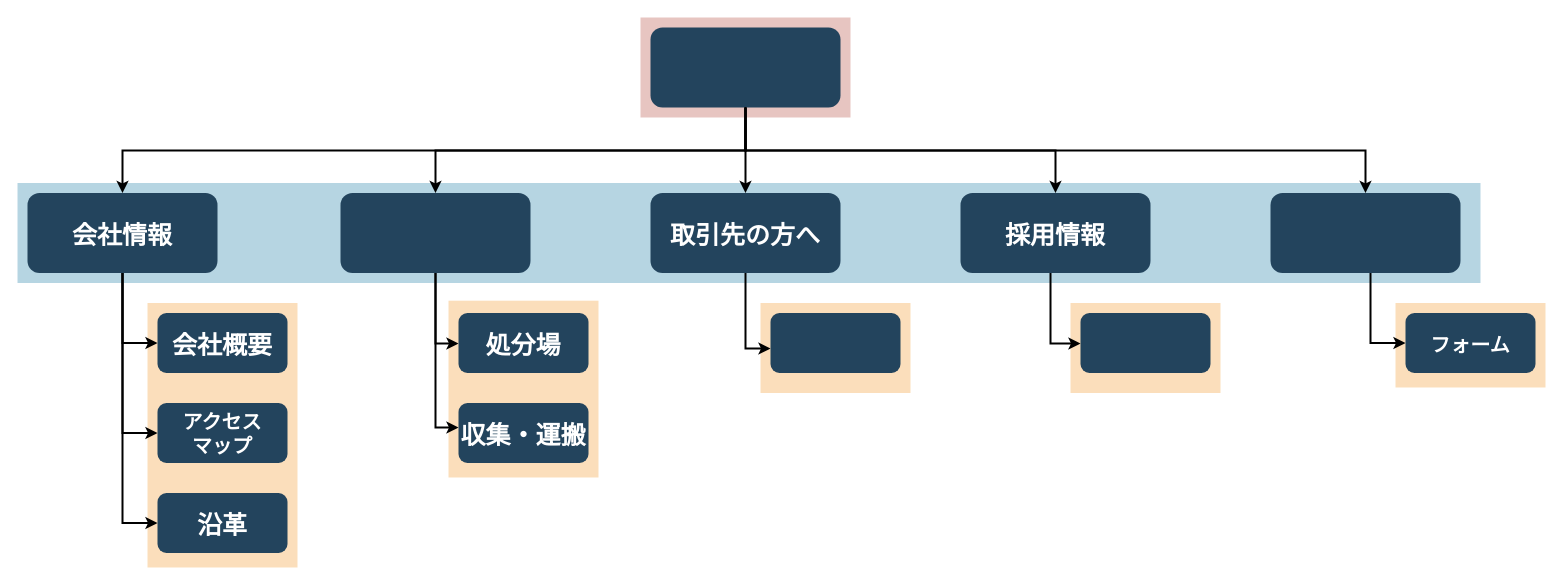
Image size: 1562x584. Some labels were removed from this diagram. The shapes that lost their labels are listed below. From the top down, each one's box as (x1, y1, x2, y2) in pixels, then its label:
(650, 27, 840, 107): トップページ
(340, 192, 530, 272): 事業案内
(1270, 192, 1460, 272): お問い合わせ
(770, 312, 900, 372): 許可証
(1080, 312, 1210, 372): 募集要項
